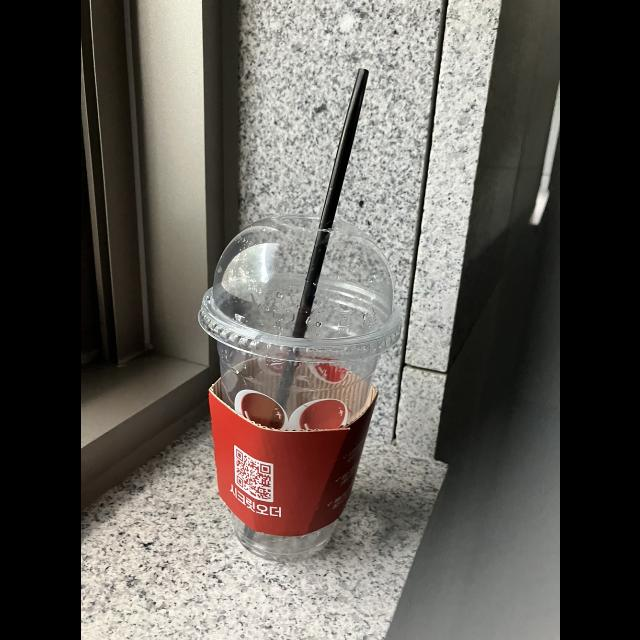plastic_cup: (195, 210, 402, 564)
plastic_cup_lid: (193, 211, 399, 361)
straw: (264, 67, 372, 425)
